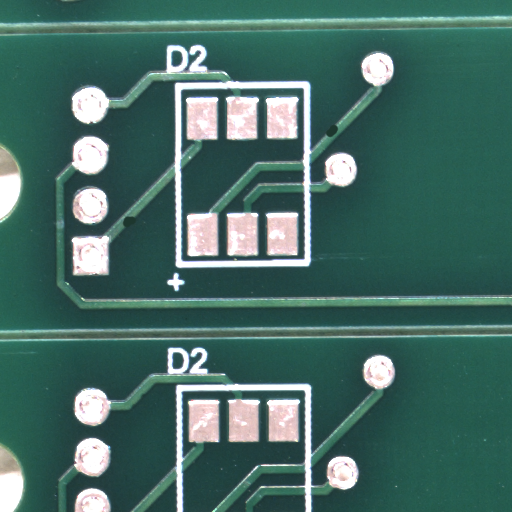Mouse_bite: (331, 131, 343, 144), (129, 222, 143, 233)
